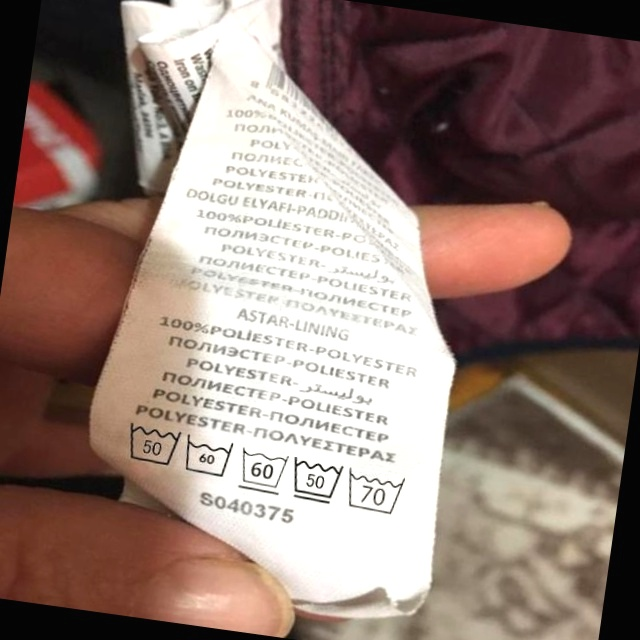50C: (118, 414, 187, 472), (286, 452, 348, 509)
60C: (235, 442, 294, 497), (179, 430, 239, 483)
70C: (343, 465, 413, 519)
